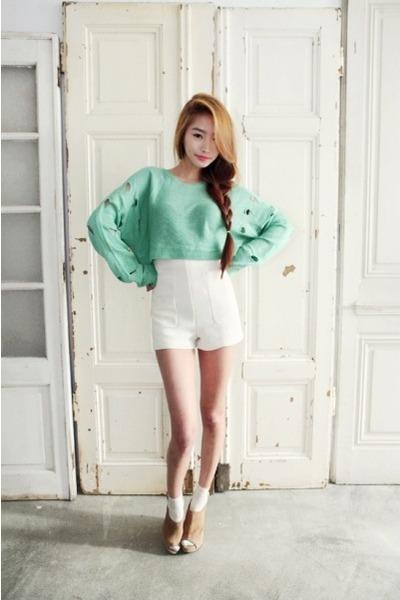jacket: (88, 167, 285, 290)
shoe: (146, 516, 195, 571)
shorts: (141, 259, 243, 526)
